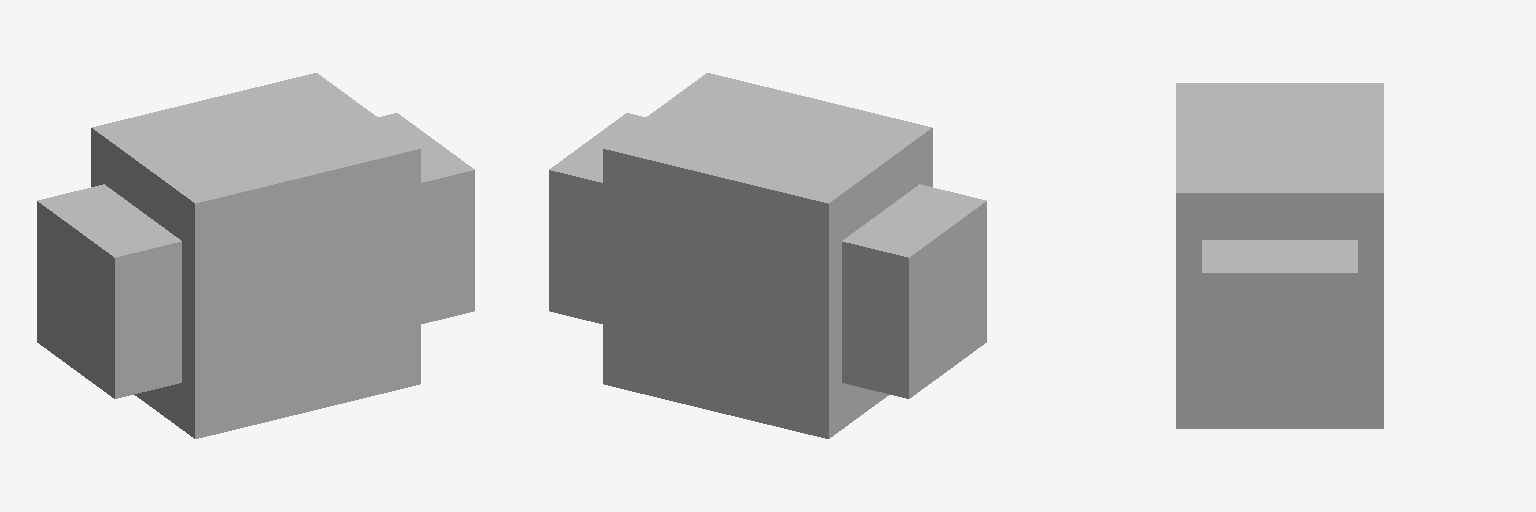
Rendered from speedometer.obj.
The picture shows the model from 3 angles: view 1: azimuth 30°, elevation 25°; view 2: azimuth 150°, elevation 25°; view 3: azimuth 270°, elevation 25°; orthographic projection.
Parts seen in each view (by area): view 1: Cube.001_Cube.002; view 2: Cube.001_Cube.002; view 3: Cube.001_Cube.002.
Boxes of the visible parts, x1=… form: Cube.001_Cube.002: x1=37, y1=73, x2=474, y2=438; Cube.001_Cube.002: x1=549, y1=73, x2=986, y2=438; Cube.001_Cube.002: x1=1176, y1=83, x2=1383, y2=428.
Size of the model in its own units: 1 by 0.625 by 0.5.